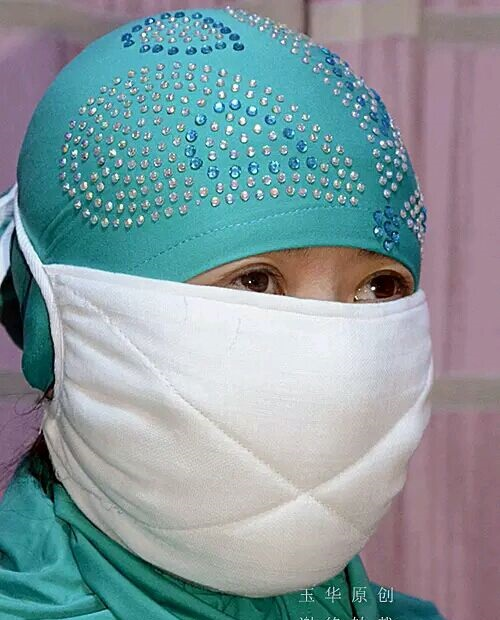face_mask: (150, 176, 424, 525)
